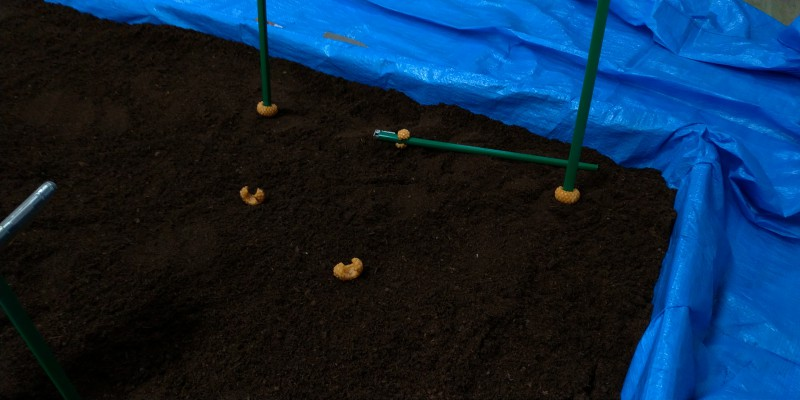eggs: (329, 255, 363, 284), (230, 182, 269, 206), (553, 177, 584, 205), (252, 96, 283, 118), (391, 128, 415, 152)
